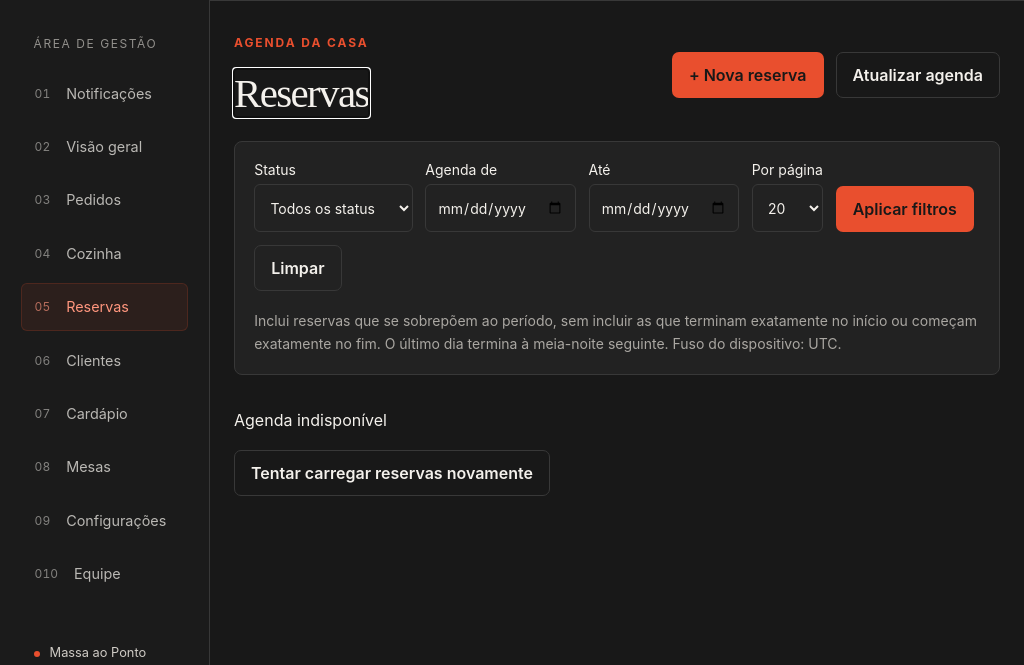
Test: Reservations UI › shows API errors and retries the list
Expected: the message reads "Agenda indisponível", [234, 410, 387, 430]
Click the button "Tentar carregar reservas novamente" at coordinates (392, 472), box [234, 450, 550, 496]
(page scrolled)
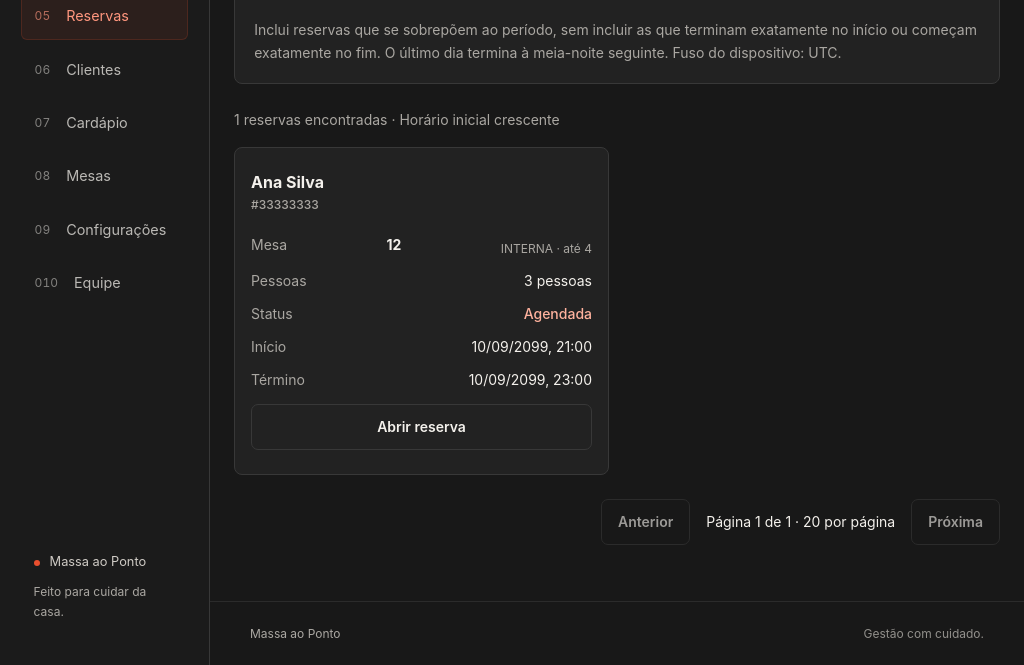
Result: the table named "Agenda de reservas" is shown at [234, 147, 1000, 475]
